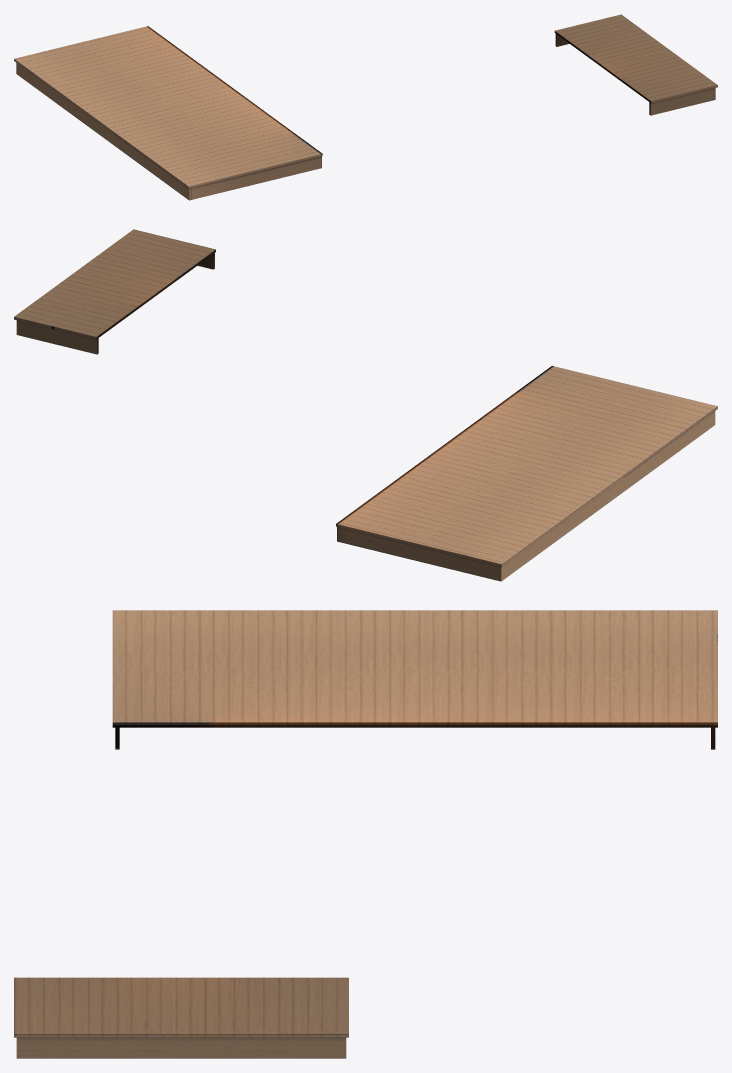
Rendered from Base_1_Plus_Deck.glb.
The picture shows the model from 3 angles, top to bottom: view 1: azimuth 30°, elevation 25°; view 2: azimuth 150°, elevation 25°; view 3: azimuth 270°, elevation 25°; orthographic projection. The views are drawn at different scales.
Visible parts, largest first — view 1: Deck; view 2: Deck; view 3: Deck.
Part boxes in pixels (x1,y1,x2,y2): Deck: [14, 14, 717, 200]; Deck: [14, 229, 717, 581]; Deck: [14, 610, 717, 1058].
Size of the model in its own units: 3.61 by 0.1025 by 2.54.
2 materials, 2 textured.
